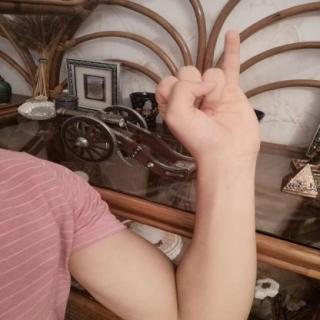MEEM: (142, 21, 271, 167)
